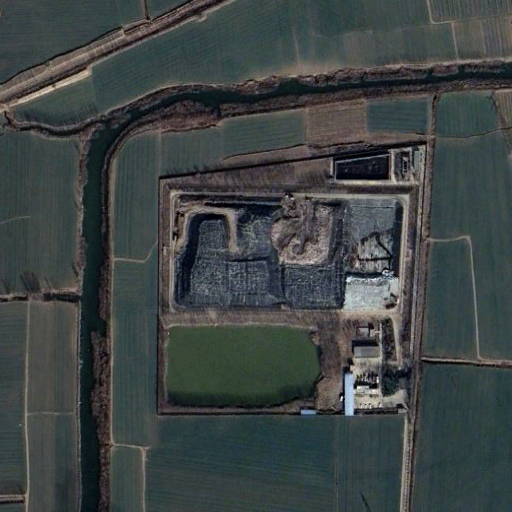lf: (172, 191, 408, 314)
